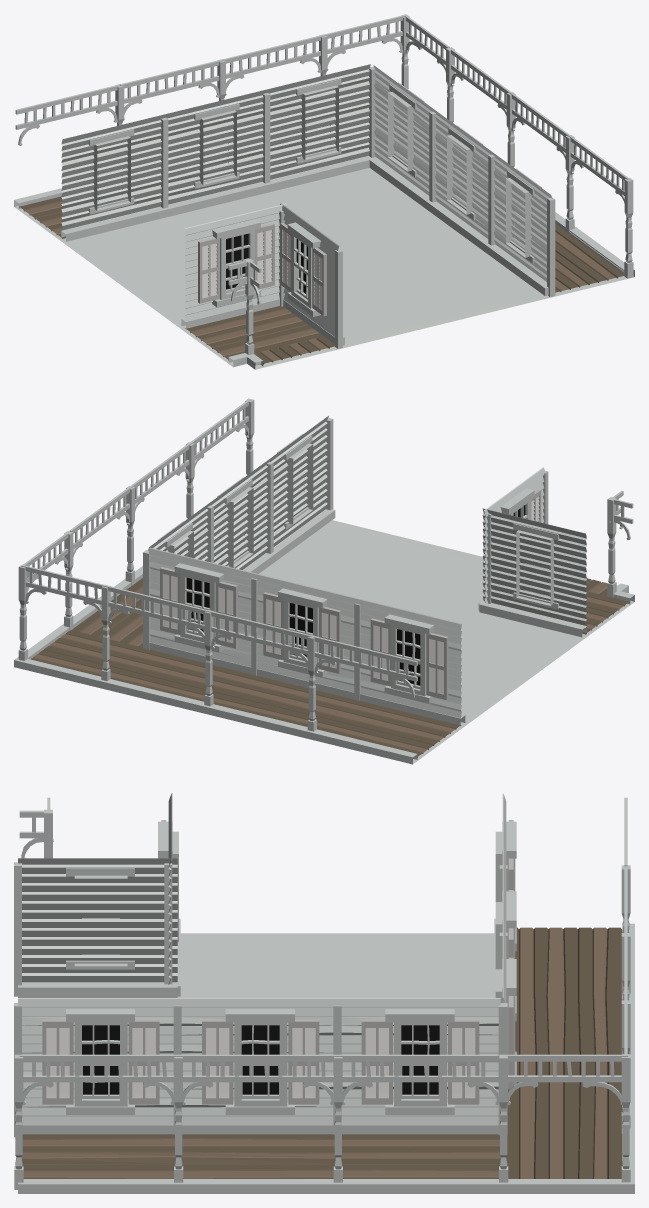
The model's file is SM_Bld_Mansion_Corner_01.glb.
The picture shows the model from 3 angles, top to bottom: view 1: azimuth 30°, elevation 25°; view 2: azimuth 150°, elevation 25°; view 3: azimuth 270°, elevation 25°; orthographic projection. The views are drawn at different scales.
Parts seen in each view (by area): view 1: SM_Bld_Mansion_Corner_01_part00; view 2: SM_Bld_Mansion_Corner_01_part00; view 3: SM_Bld_Mansion_Corner_01_part00.
Part boxes in pixels (box(x1,y1,x2,y2)): SM_Bld_Mansion_Corner_01_part00: box(14, 14, 634, 369); SM_Bld_Mansion_Corner_01_part00: box(14, 398, 634, 764); SM_Bld_Mansion_Corner_01_part00: box(14, 793, 634, 1193).
Bounding box in the file's own units: 11.62 × 2.9 × 11.67.
1 material, 1 textured.
